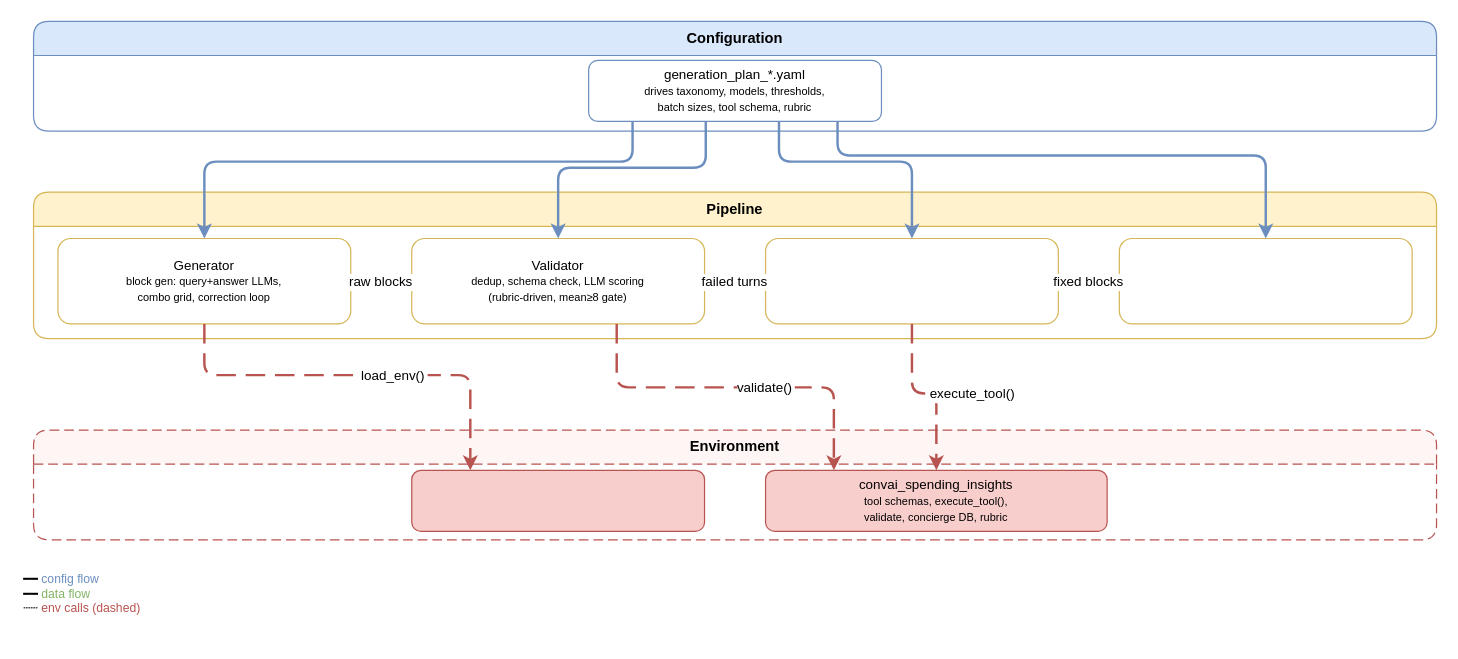
This 1458x659 diagram has some shape labels left out. Here are the shapes that lost their labels. From the top down, the centre of each, then its label:
the point at 911,280: Fixer rewrites failing turns via LLM, re-grounds tool calls in DB
the point at 1265,280: Post-Processing assemble blocks, split train/eval, rebalance, category analysis
the point at 558,500: registry.py resolves env by name → loads frozen ToolSpec + prompts + DB
